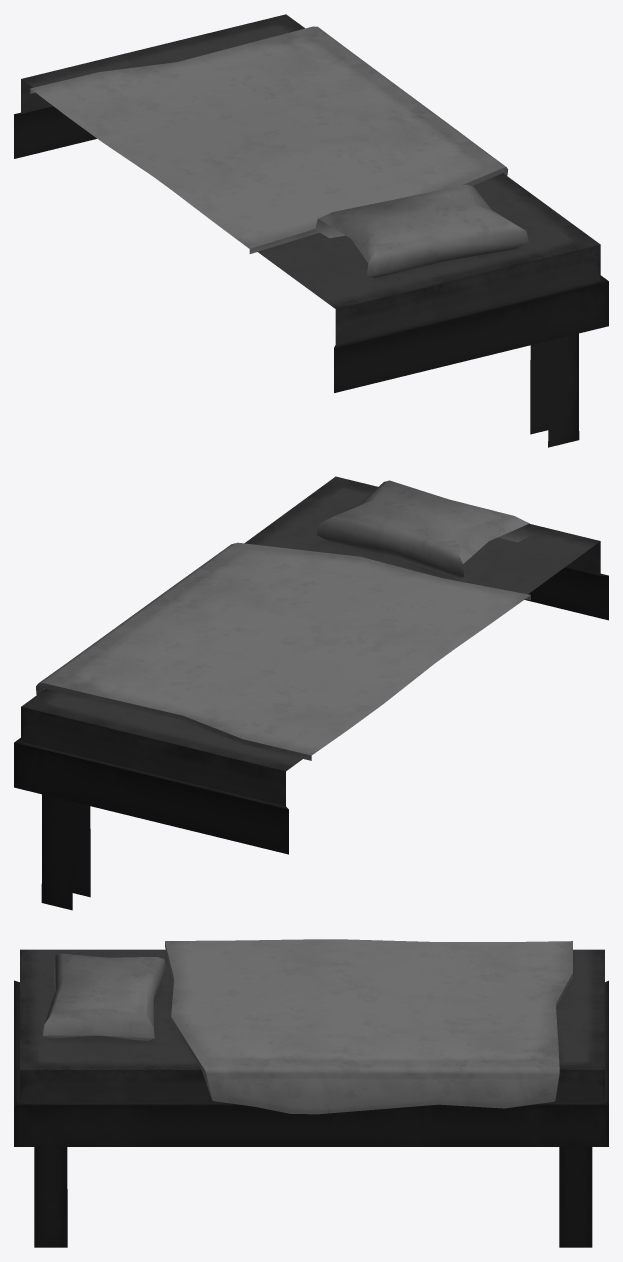
Rendered from SM_Bed.fbx.
The picture shows the model from 3 angles, top to bottom: view 1: azimuth 30°, elevation 25°; view 2: azimuth 150°, elevation 25°; view 3: azimuth 270°, elevation 25°; orthographic projection. The views are drawn at different scales.
Parts seen in each view (by area): view 1: SM_Bed; view 2: SM_Bed; view 3: SM_Bed.
Boxes of the visible parts, <box> form: SM_Bed: <box>14,14,608,447</box>; SM_Bed: <box>14,476,608,910</box>; SM_Bed: <box>14,939,608,1247</box>.
Bounding box in the file's own units: 57.92 × 44.72 × 113.
